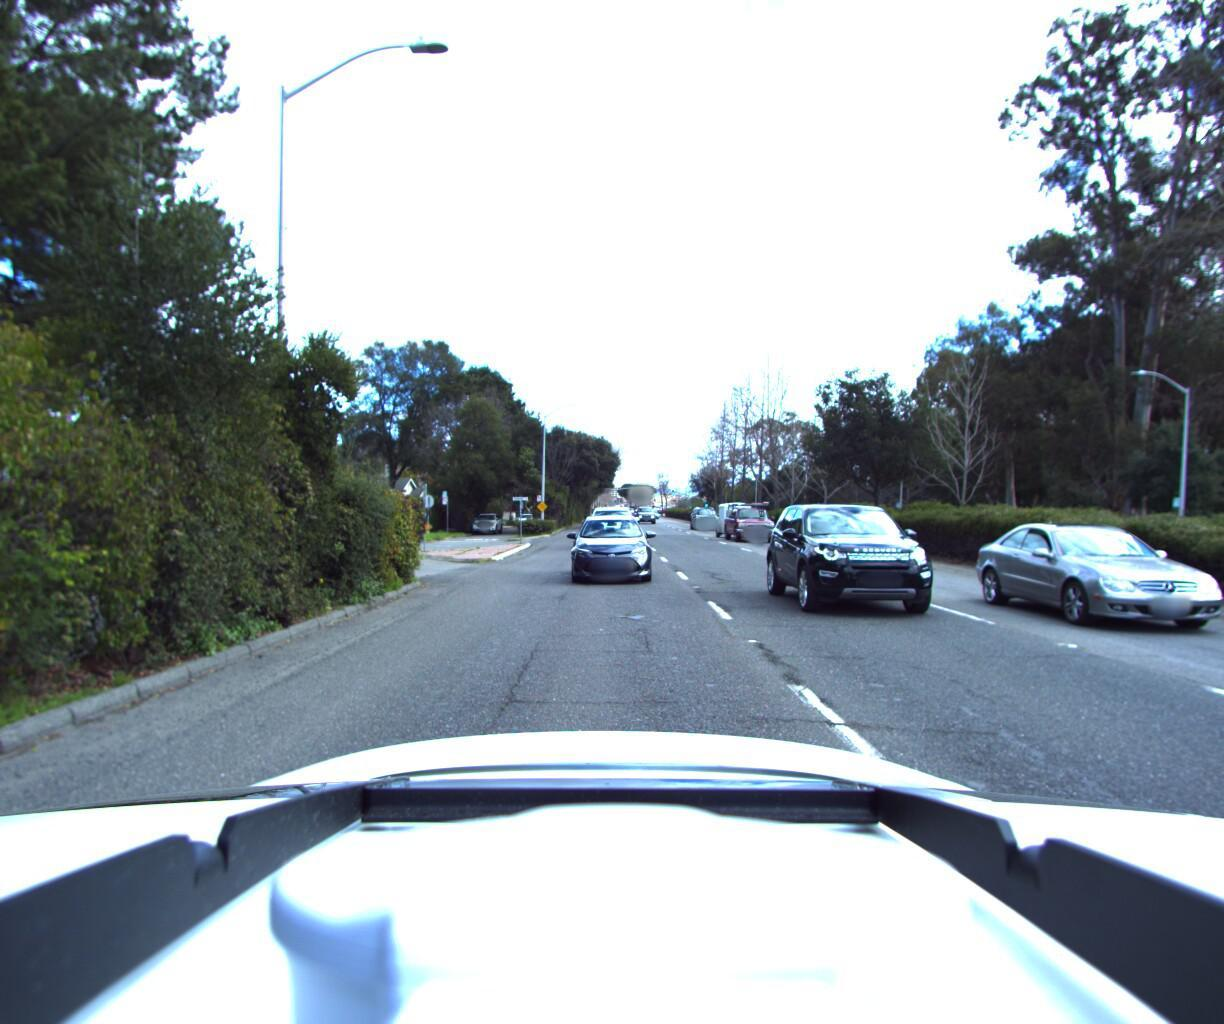car: (994, 513, 1224, 648), (771, 498, 991, 636), (566, 513, 656, 588), (714, 498, 785, 547), (588, 507, 637, 552), (471, 513, 507, 537), (690, 507, 724, 533), (638, 508, 659, 526)
